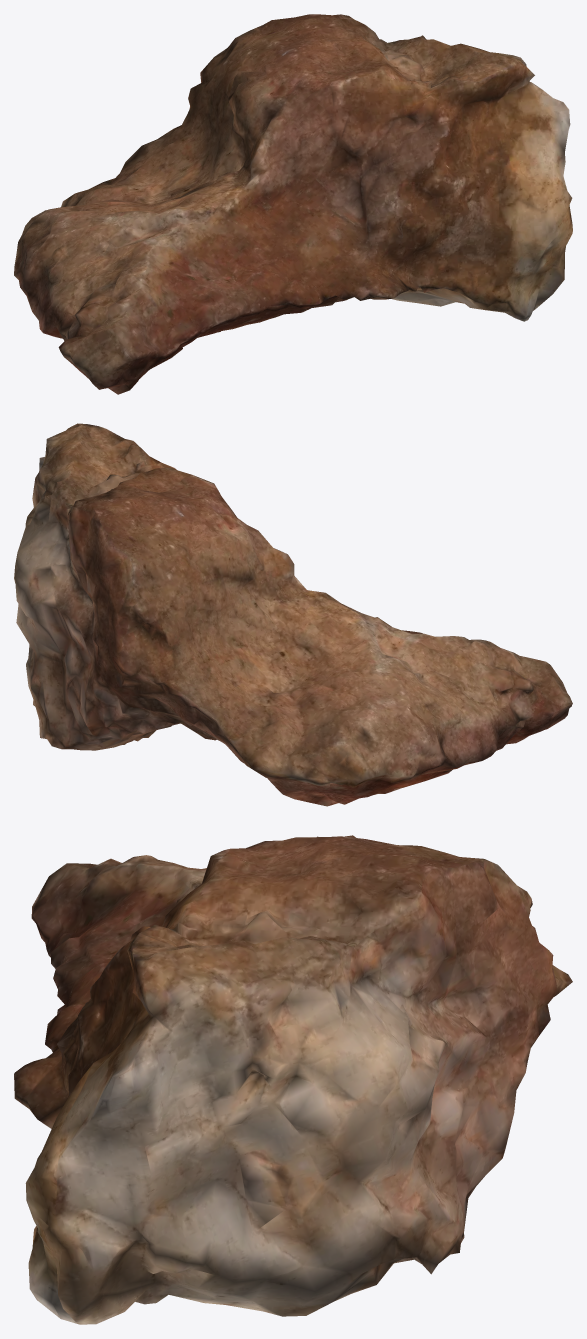
The model's file is stone_01.glb.
3 renders of one model, top to bottom at view 1: azimuth 30°, elevation 25°; view 2: azimuth 150°, elevation 25°; view 3: azimuth 270°, elevation 25°, orthographic. The views are drawn at different scales.
Visible parts, largest first — view 1: stone_01; view 2: stone_01; view 3: stone_01.
Part boxes in pixels (x1,y1,x2,y2): stone_01: (14, 14, 572, 394); stone_01: (14, 423, 572, 806); stone_01: (14, 835, 572, 1324).
Bounding box in the file's own units: 0.1465 × 0.0714 × 0.089.
Materials: 1 (1 with a texture image).
